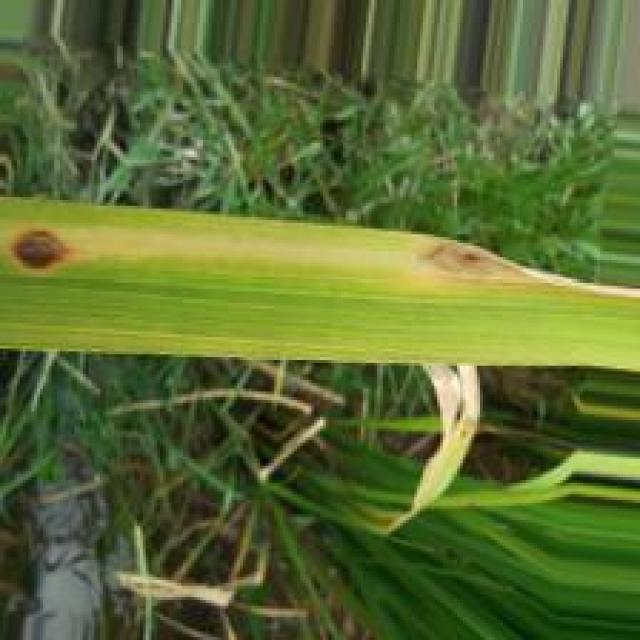Brown_Spot: (412, 239, 543, 285), (6, 224, 83, 279)
